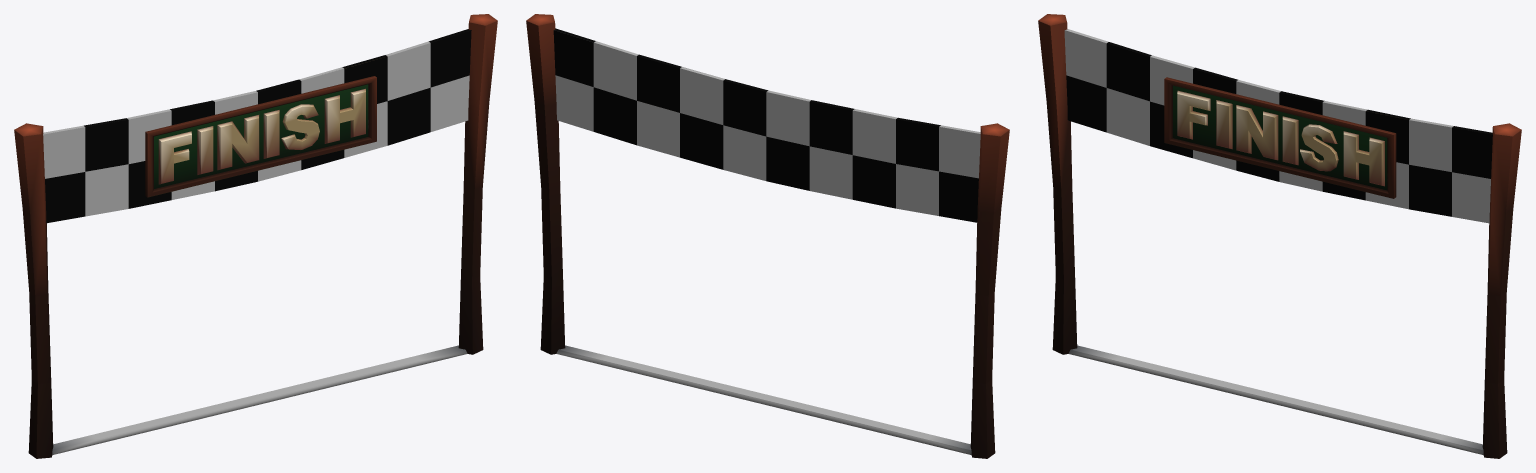
File: Finish_Line.obj
The picture shows the model from 3 angles, left to right: view 1: azimuth 30°, elevation 25°; view 2: azimuth 150°, elevation 25°; view 3: azimuth 330°, elevation 25°; orthographic projection.
Parts seen in each view (by area): view 1: GPL_goal_02_Material.039; view 2: GPL_goal_02_Material.039; view 3: GPL_goal_02_Material.039.
Part boxes in pixels (box(x1,y1,x2,y2)): GPL_goal_02_Material.039: box(14, 14, 497, 458); GPL_goal_02_Material.039: box(526, 14, 1009, 458); GPL_goal_02_Material.039: box(1038, 14, 1521, 458).
Bounding box in the file's own units: 48.52 × 31.99 × 2.63.
